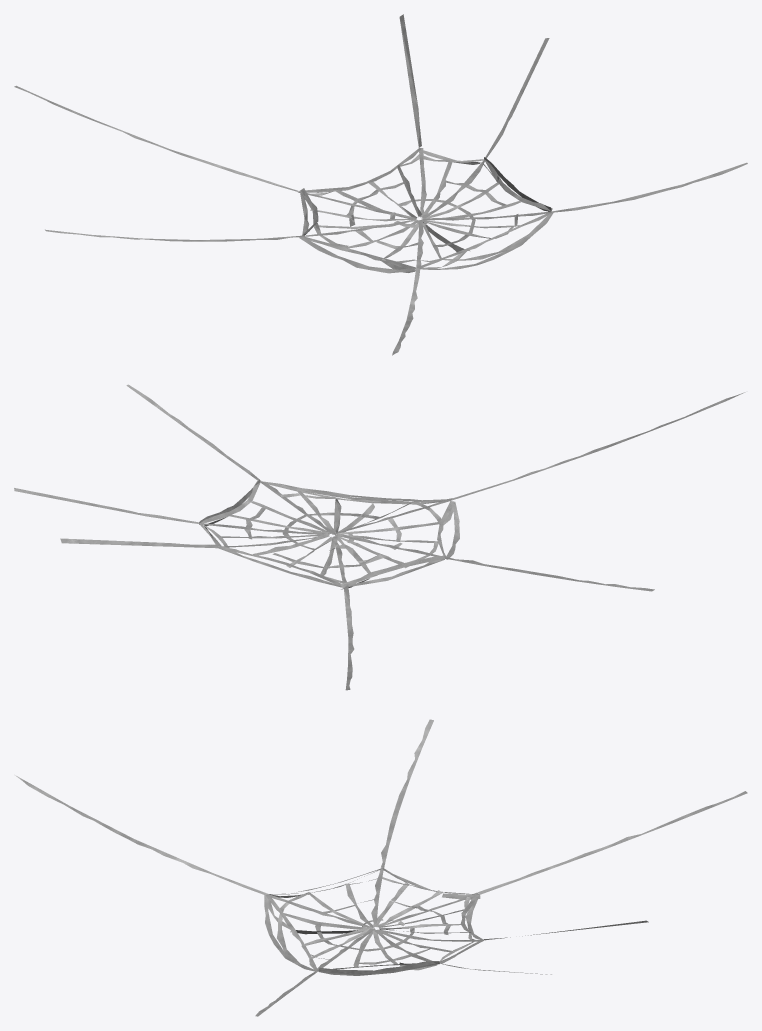
File: CobwebA.fbx
3 renders of one model, top to bottom at view 1: azimuth 30°, elevation 25°; view 2: azimuth 150°, elevation 25°; view 3: azimuth 270°, elevation 25°, orthographic. The views are drawn at different scales.
Parts seen in each view (by area): view 1: CobwebA; view 2: CobwebA; view 3: CobwebA.
Boxes of the visible parts, left/top/right/bottom form: CobwebA: left=14, top=14, right=747, bottom=355; CobwebA: left=14, top=384, right=745, bottom=690; CobwebA: left=15, top=719, right=747, bottom=1016.
Size of the model in its own units: 399 by 47.71 by 436.
